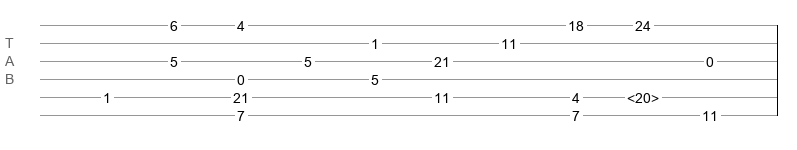0: (237, 72, 245, 82), (706, 54, 714, 64)
1: (103, 90, 111, 100), (371, 36, 379, 46)
11: (434, 90, 450, 100), (501, 36, 517, 46), (702, 108, 718, 118)
18: (568, 18, 584, 28)
21: (233, 90, 249, 100), (434, 54, 450, 64)
24: (635, 18, 651, 28)
4: (237, 18, 245, 28), (572, 90, 580, 100)
5: (170, 54, 178, 64), (304, 54, 312, 64), (371, 72, 379, 82)
6: (170, 18, 178, 28)
7: (237, 108, 245, 118), (572, 108, 580, 118)
harmonic: (627, 90, 659, 100)
